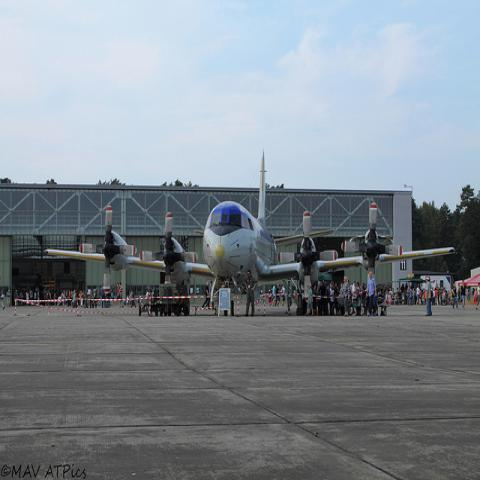truck: (158, 284, 190, 316)
